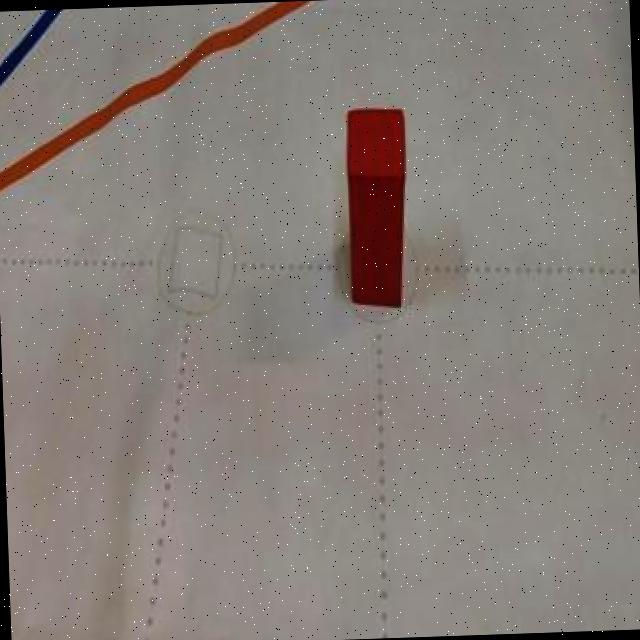redbox: (343, 106, 413, 312)
